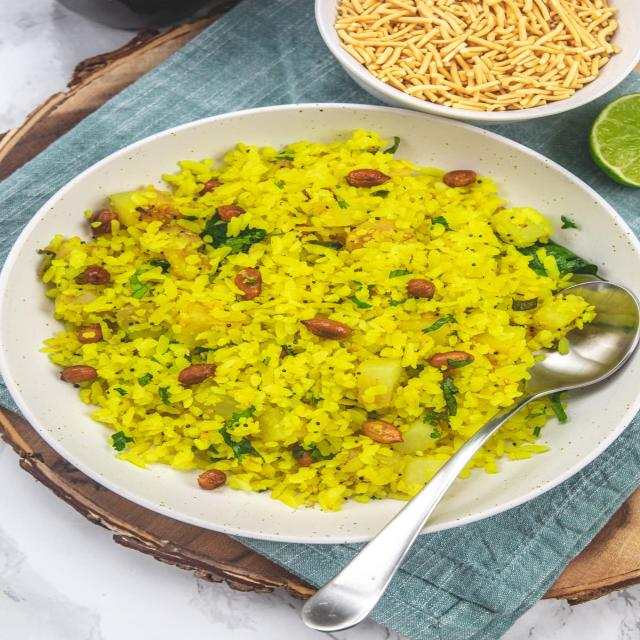POHA: (38, 132, 592, 507)
